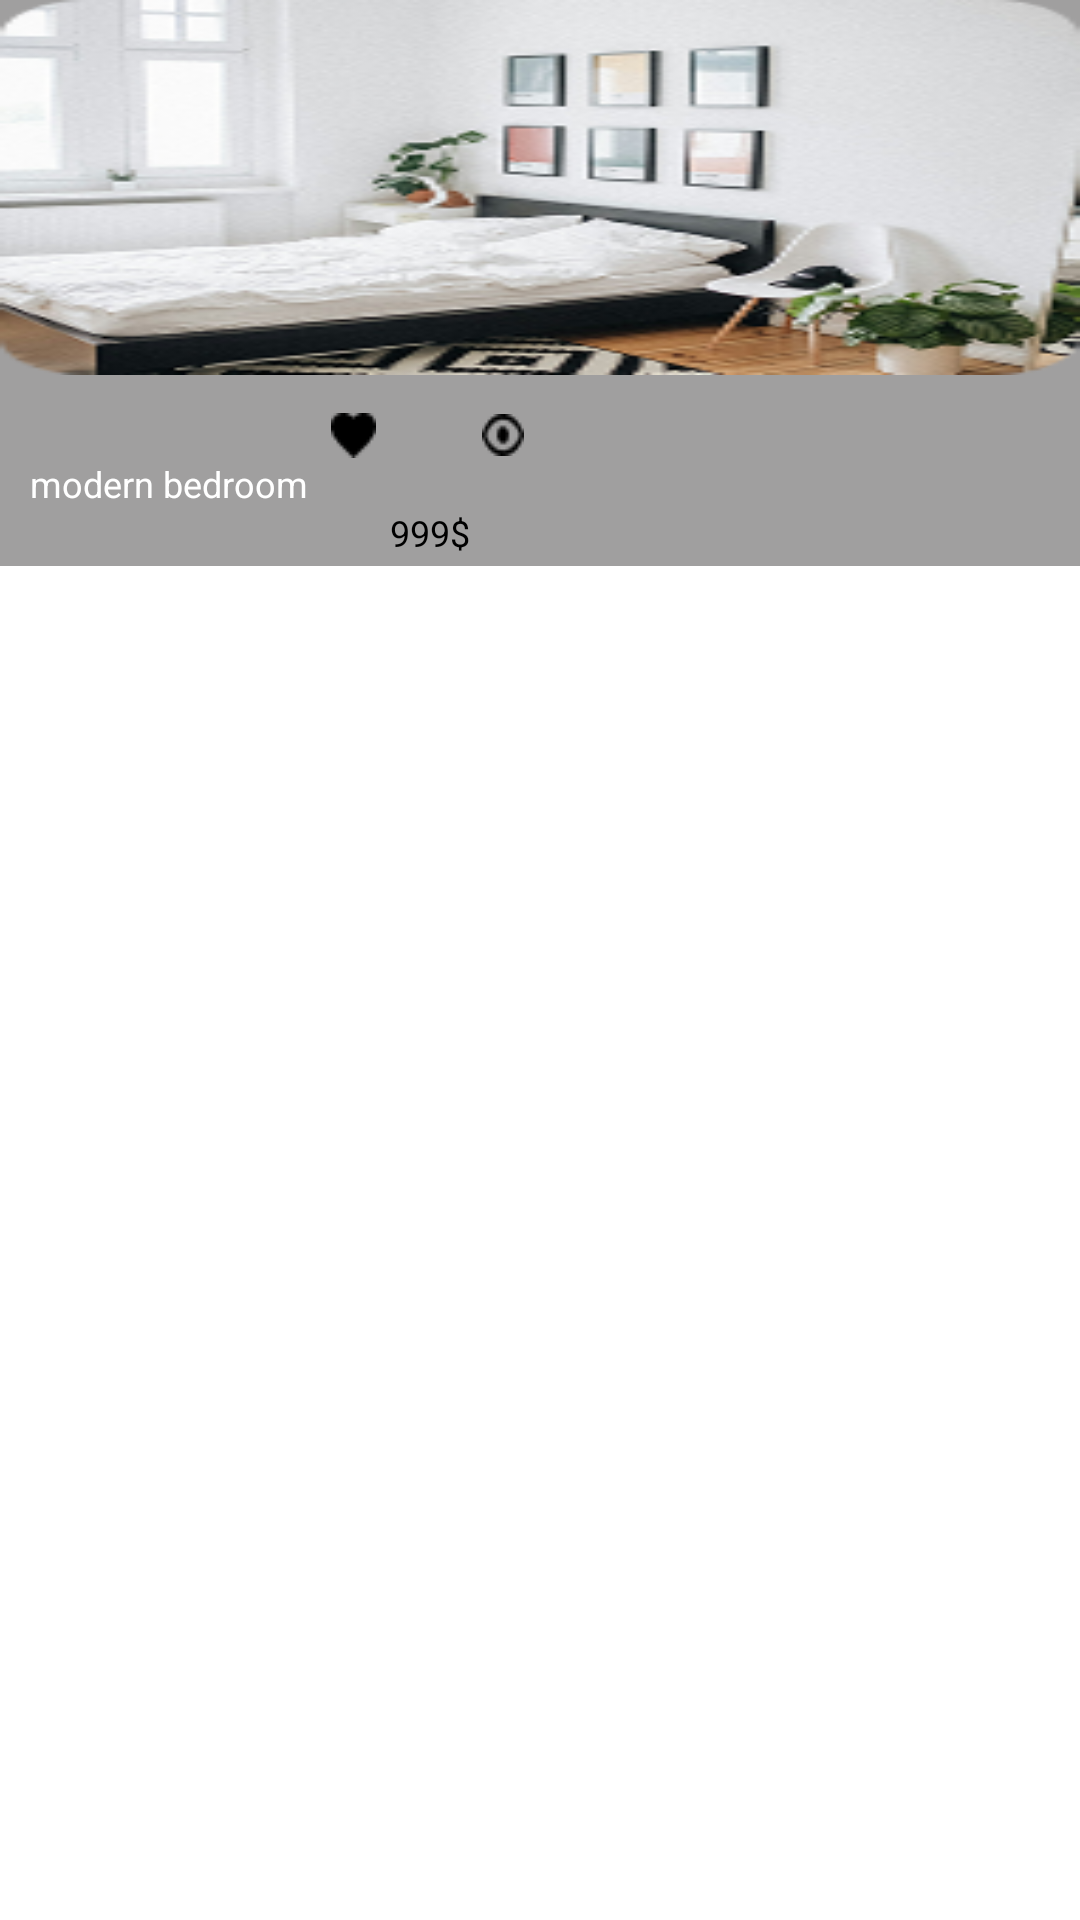

Icon bounding boxes for this 1080 x 1920 phone screenshot, format (x1, y1, x2, y2):
heart: (331, 413, 376, 458)
